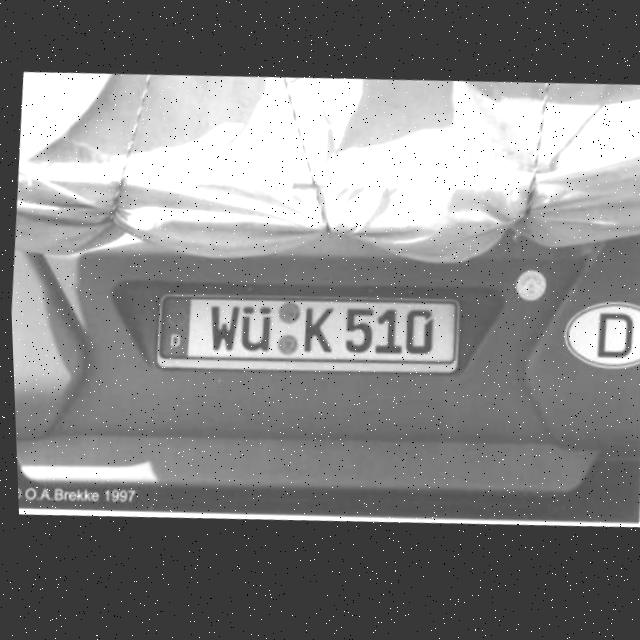license-plates: (157, 294, 460, 373)
